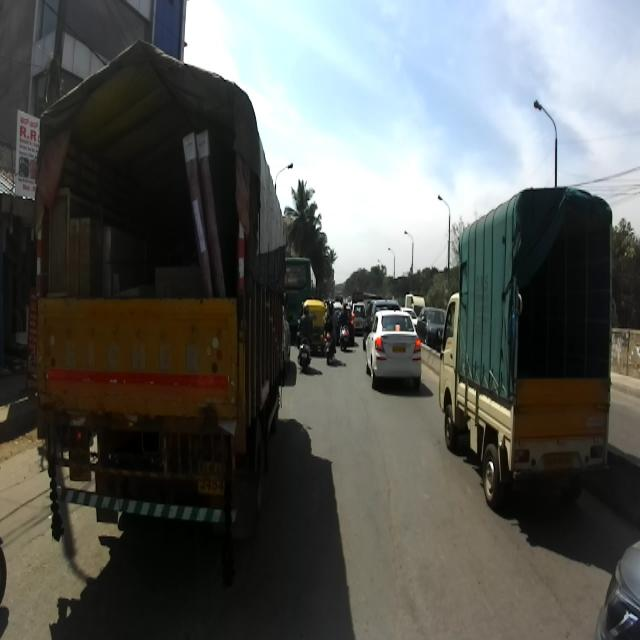car: (364, 309, 422, 389)
truck: (24, 38, 292, 585), (435, 185, 612, 514)
